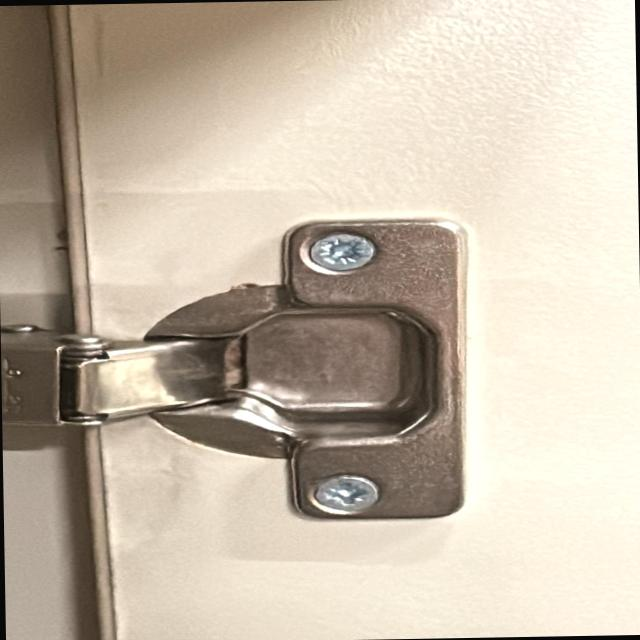Pozidriv: (269, 464, 404, 520), (301, 222, 393, 286)
